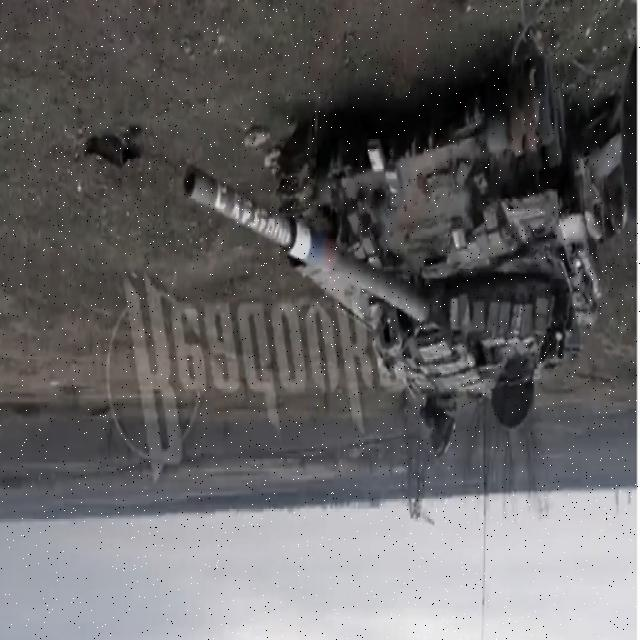TANK: (184, 34, 604, 438)
